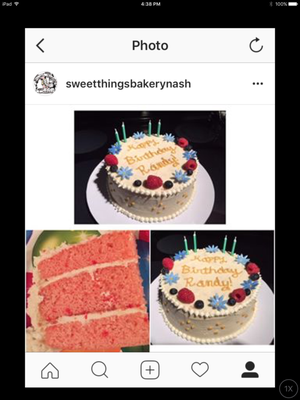sushi: (32, 230, 149, 351), (158, 244, 261, 342), (104, 130, 200, 221)
